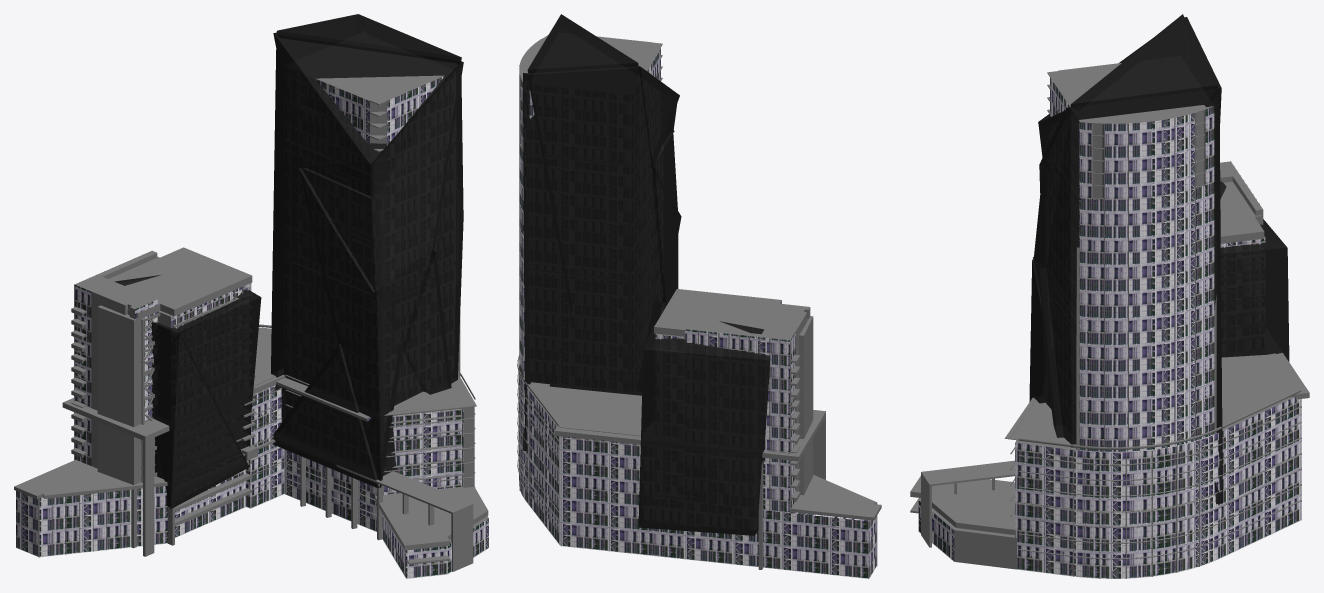
File: jian-processed.gltf
3 views of the same model, side by side, from view 1: azimuth 30°, elevation 25°; view 2: azimuth 150°, elevation 25°; view 3: azimuth 270°, elevation 25° (orthographic). The views are drawn at different scales.
Parts seen in each view (by area): view 1: root, a#1, ada#1, object 191, hsgfs, adsfa#2, object 25, ada#2, a#2, adsfa#1, dadfae, object 178 (+2 smaller); view 2: root, a#1, ada#1, object 191, hsgfs, a#2, ada#2, object 25, object 178, dadfae, object 216, object 179; view 3: object 25, a#1, root, a#2, OD=300.0mm ID=100.0mm (×8), adsfa#2, adsfa#1, dadfae, ada#1, hsgfs, object 191.
Part boxes in pixels (box(x1,y1,x2,y2)): root: box(97, 14, 463, 548); a#1: box(246, 377, 474, 531); ada#1: box(16, 439, 473, 571); object 191: box(74, 250, 249, 472); hsgfs: box(108, 247, 252, 318); adsfa#2: box(374, 486, 488, 550); object 25: box(315, 75, 444, 145); ada#2: box(14, 445, 257, 499); a#2: box(253, 327, 476, 415); adsfa#1: box(382, 514, 488, 578); dadfae: box(317, 75, 443, 104); object 178: box(62, 374, 285, 441); root: box(522, 14, 813, 535); a#1: box(519, 374, 653, 555); ada#1: box(653, 510, 876, 578); object 191: box(655, 303, 810, 512); hsgfs: box(654, 289, 781, 339); a#2: box(528, 382, 641, 436); ada#2: box(791, 475, 881, 520); object 25: box(519, 36, 660, 382); object 178: box(554, 410, 825, 461); dadfae: box(519, 35, 662, 81); object 216: box(813, 416, 825, 479); object 179: box(758, 462, 763, 569); object 25: box(1050, 63, 1214, 452); a#1: box(1015, 396, 1301, 578); root: box(1029, 14, 1289, 520); a#2: box(1004, 353, 1299, 444); OD=300.0mm ID=100.0mm (×8): box(1018, 389, 1301, 559); adsfa#2: box(910, 476, 1014, 534); adsfa#1: box(918, 498, 1016, 569); dadfae: box(1047, 63, 1212, 124); ada#1: box(921, 460, 1014, 547); hsgfs: box(1220, 181, 1264, 243); object 191: box(1220, 161, 1265, 247).
Bounding box in the file's own units: 124 × 141 × 103.
Materials: 4 (1 with a texture image).
